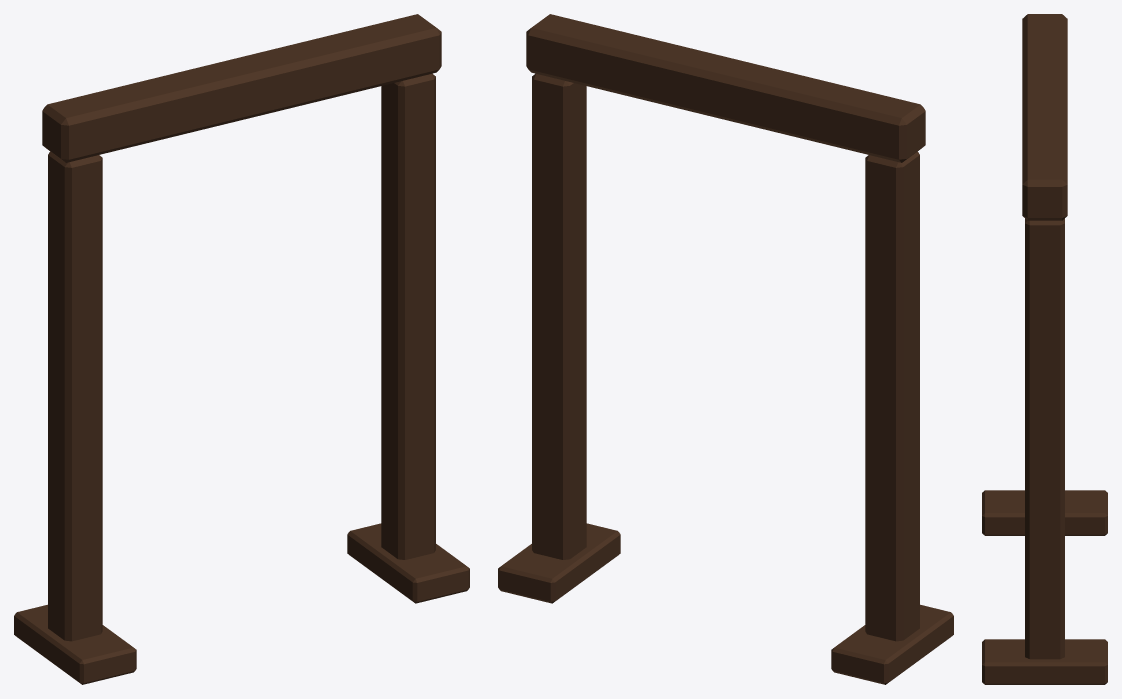
File: Prop_Lab_EchoBell_Frame_LOD1.glb
3 views of the same model, side by side, from view 1: azimuth 30°, elevation 25°; view 2: azimuth 150°, elevation 25°; view 3: azimuth 270°, elevation 25° (orthographic). The views are drawn at different scales.
Visible parts, largest first — view 1: Prop_Lab_EchoBell_Frame; view 2: Prop_Lab_EchoBell_Frame; view 3: Prop_Lab_EchoBell_Frame.
Part boxes in pixels (<box>): Prop_Lab_EchoBell_Frame: <box>14,14,469,684</box>; Prop_Lab_EchoBell_Frame: <box>498,14,953,684</box>; Prop_Lab_EchoBell_Frame: <box>982,14,1107,684</box>.
Size of the model in its own units: 1.64 by 2.2 by 0.5.
